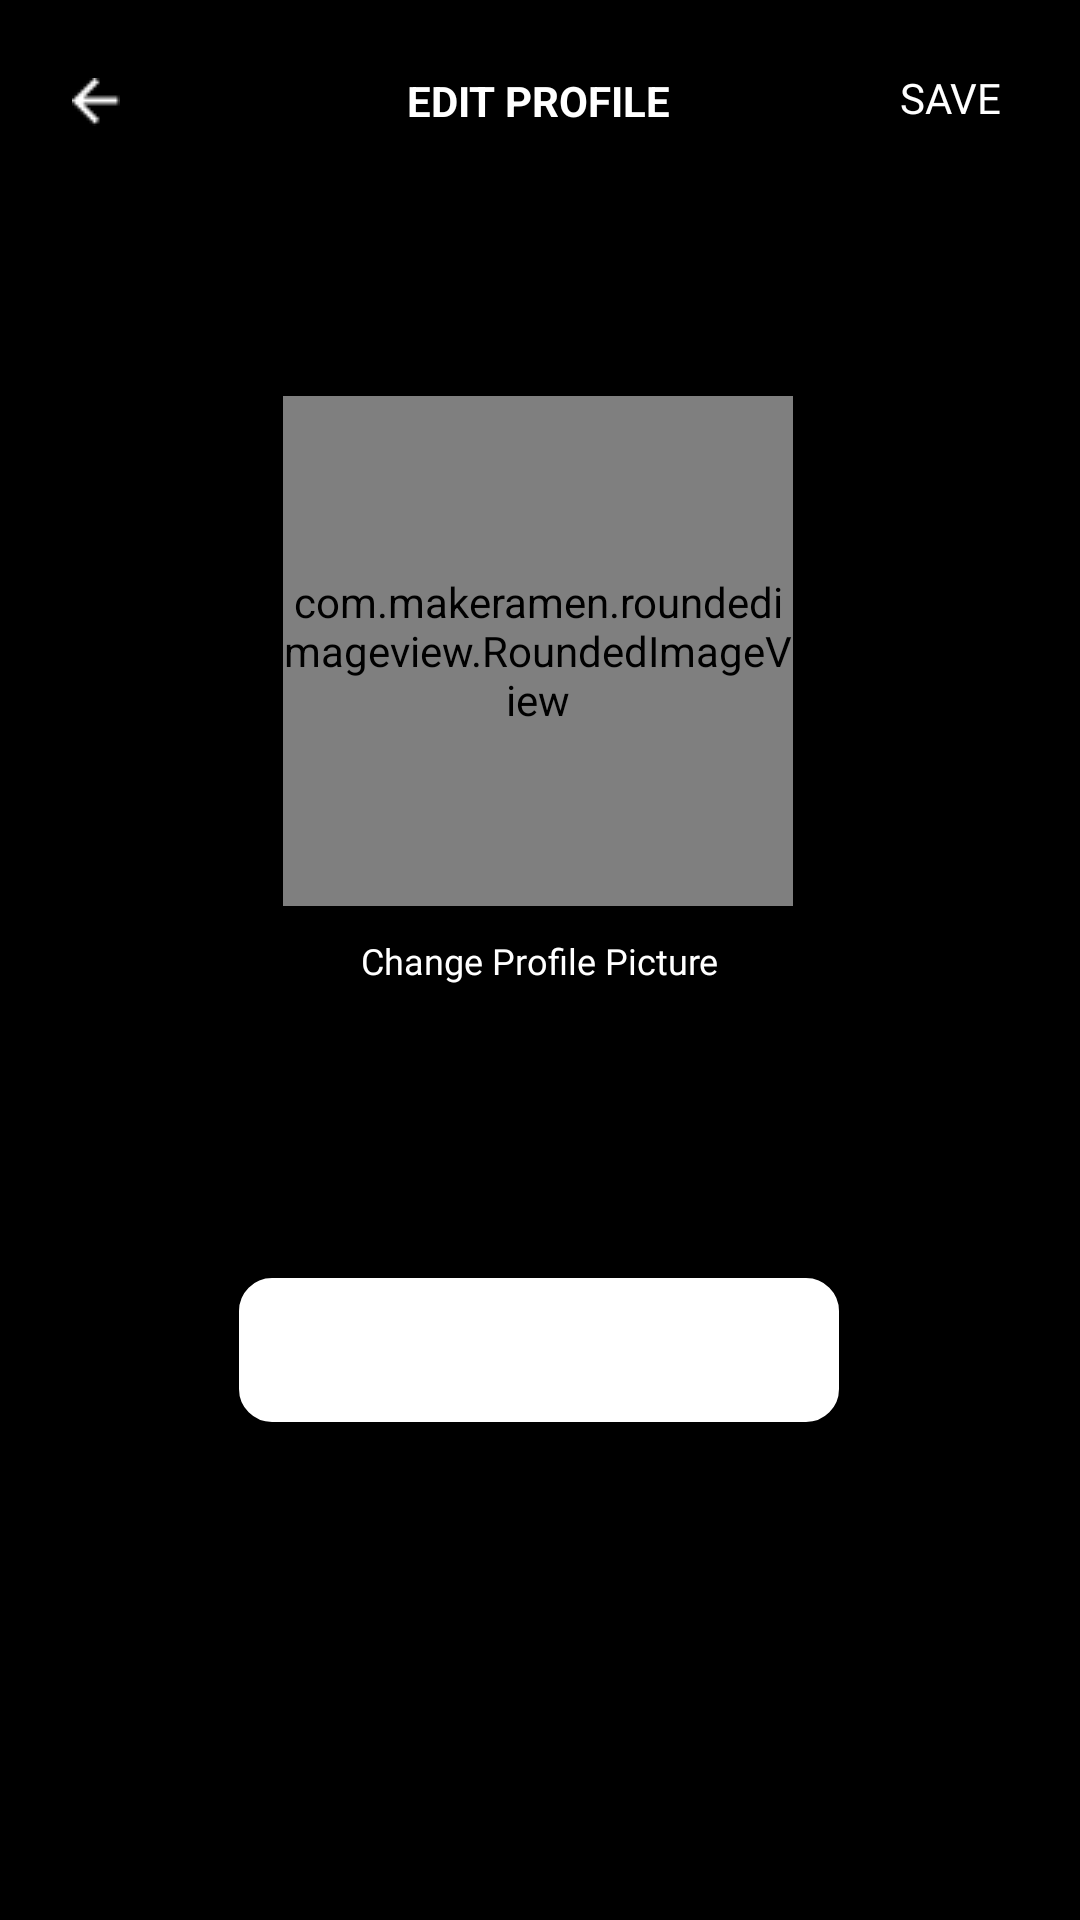

Locate icon controls on the screen. Image size 1080px×1920px, boxes as {"x1": x1, "y1": y1, "x2": x2, "y2": y2}.
goback: {"x1": 72, "y1": 78, "x2": 120, "y2": 124}
